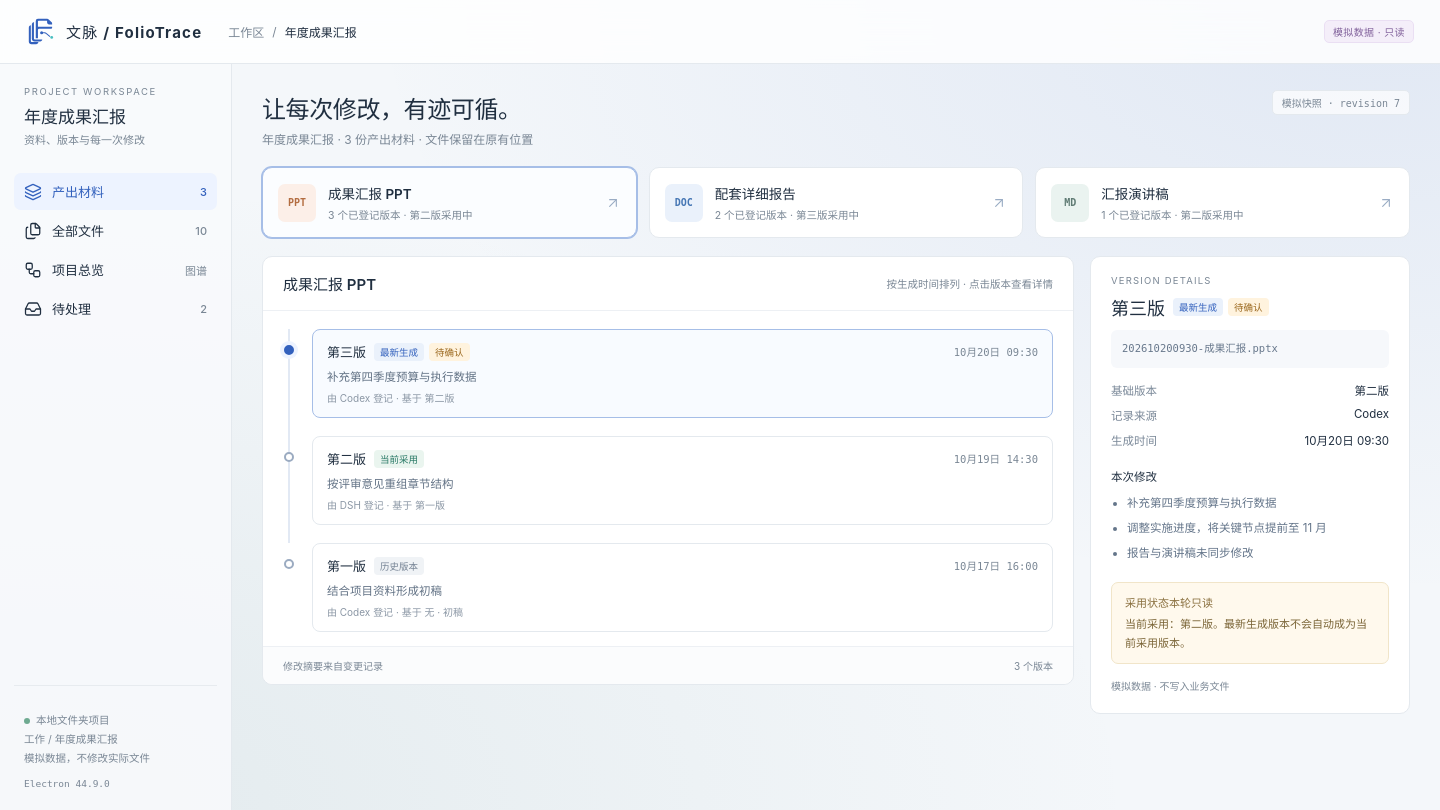
产出材料工作台 › 点击材料后时间线与右侧详情一起切换
Expected: the list named "产出材料" is shown, [262,167,1410,238]
Click the button "配套详细报告". click: (684, 202)
box: [649,167,1023,238]
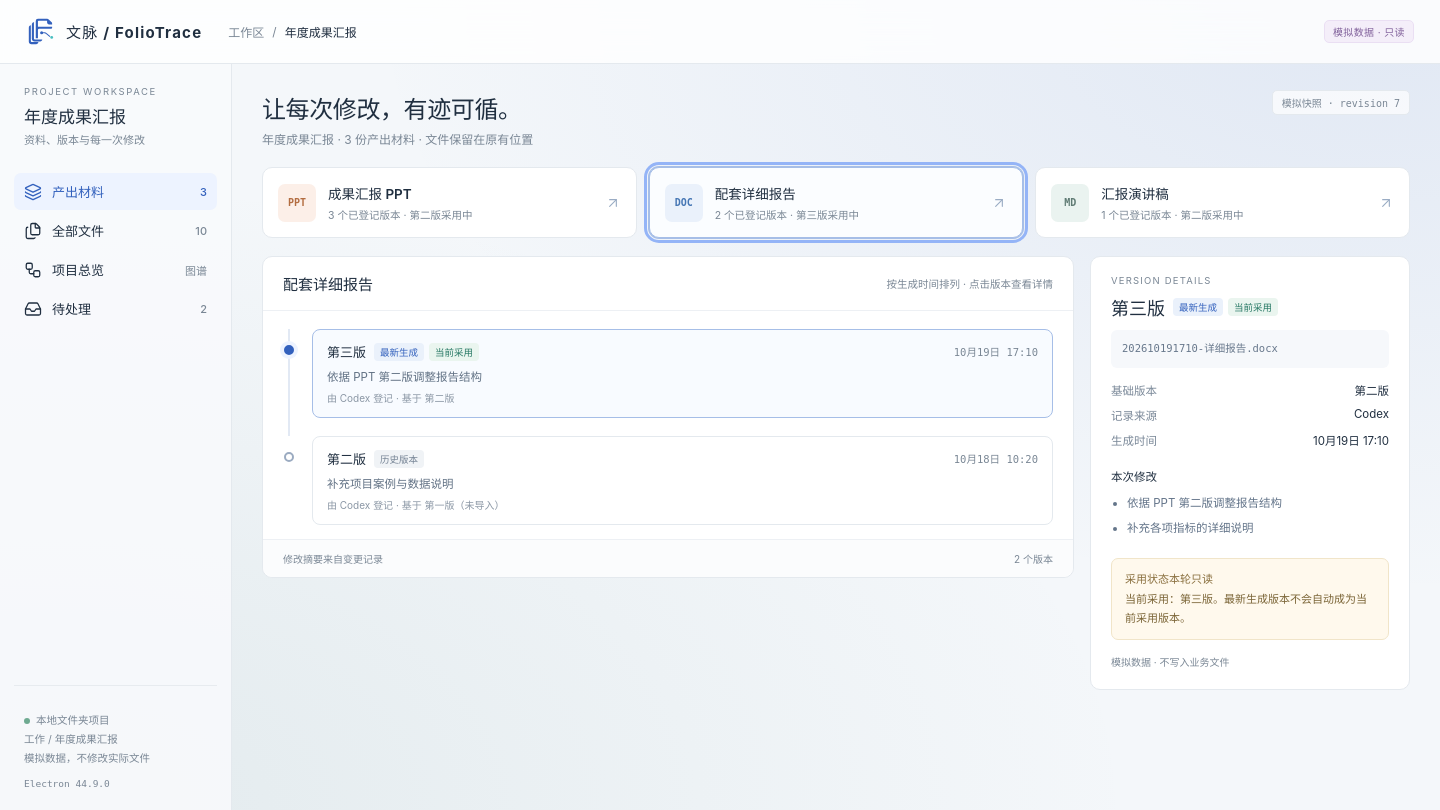
Expected: the 2nd text "最新生成" is shown, [374,342,424,360]
Result: the text "202610191710-详细报告.docx" is shown at [1111,330,1389,368]
